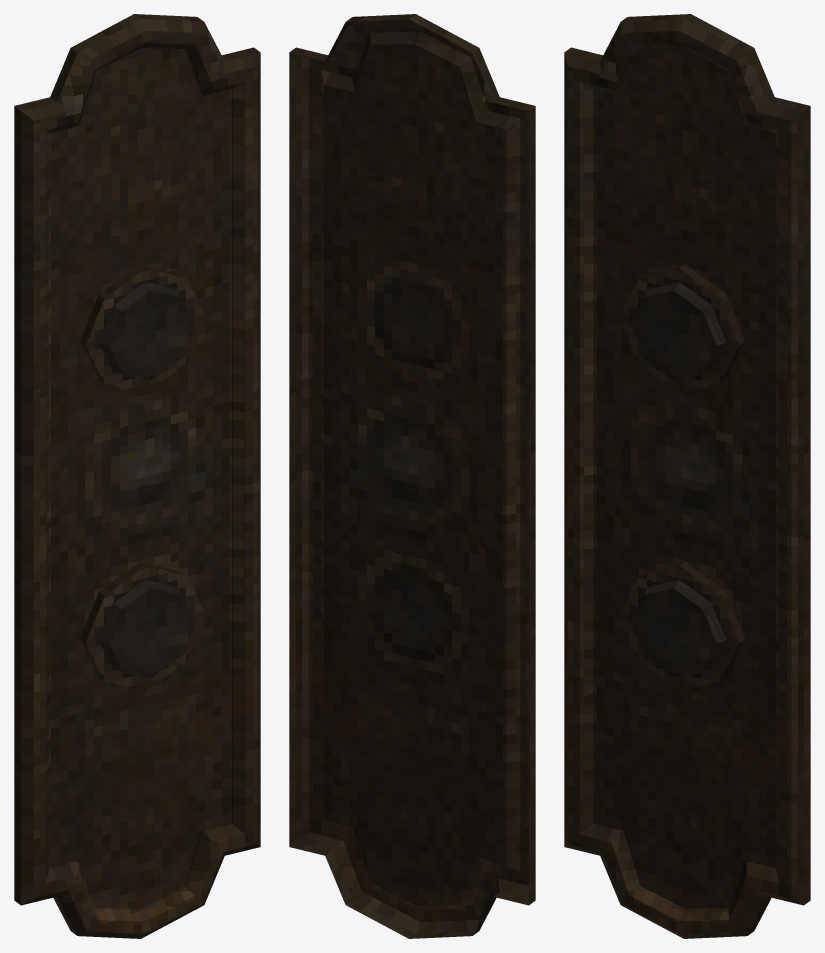
The model's file is elevator_call_button_1.glb.
3 views of the same model, side by side, from view 1: azimuth 30°, elevation 25°; view 2: azimuth 150°, elevation 25°; view 3: azimuth 330°, elevation 25° (orthographic).
Parts seen in each view (by area): view 1: elevator_call_button_1; view 2: elevator_call_button_1; view 3: elevator_call_button_1.
Boxes of the visible parts, box(x1,y1,x2,y2) form: elevator_call_button_1: box(14, 14, 260, 938); elevator_call_button_1: box(289, 14, 535, 938); elevator_call_button_1: box(564, 14, 810, 938).
Size of the model in its own units: 0.12 by 0.44 by 0.015.
1 material, 1 textured.
